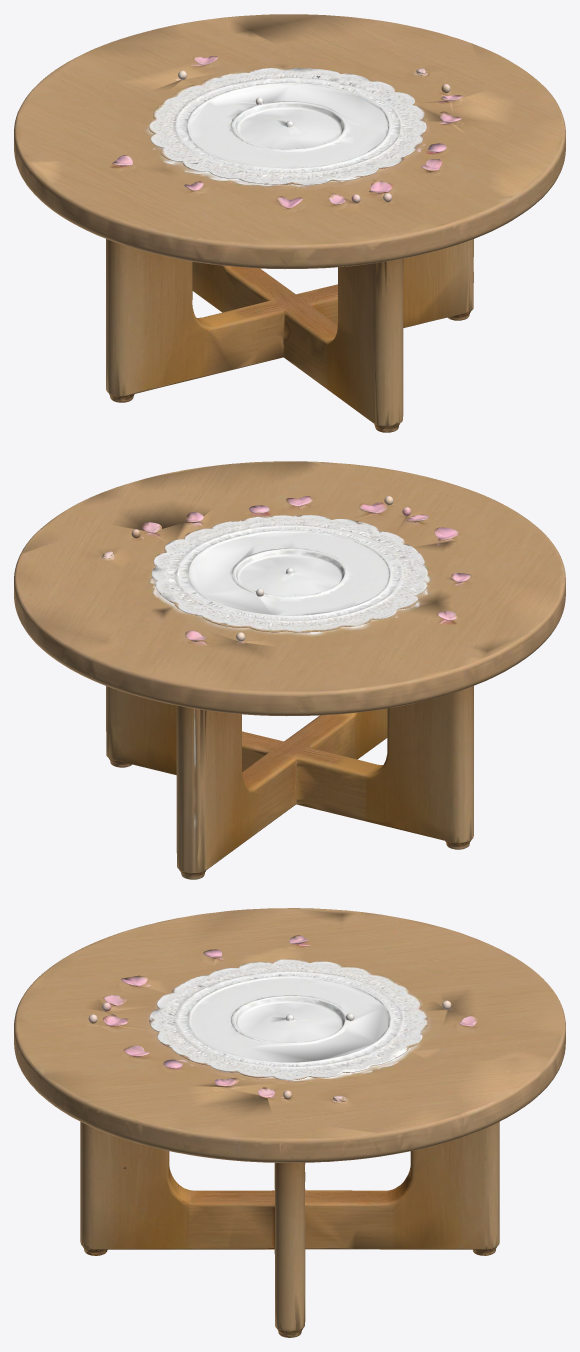
File: table.glb
3 renders of one model, top to bottom at view 1: azimuth 30°, elevation 25°; view 2: azimuth 150°, elevation 25°; view 3: azimuth 270°, elevation 25°, orthographic.
Visible parts, largest first — view 1: node_0; view 2: node_0; view 3: node_0.
Boxes of the visible parts, x1,y1,x2,y2 form: node_0: [14, 14, 565, 432]; node_0: [14, 461, 565, 879]; node_0: [14, 908, 565, 1337].
Size of the model in its own units: 1.1 by 0.5236 by 1.1.
Materials: 1 (1 with a texture image).
